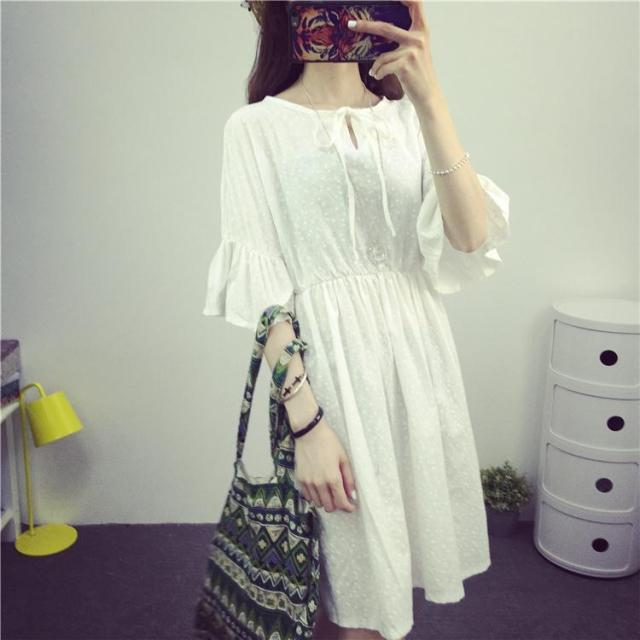short-sleeve-dress: (131, 51, 535, 628)
